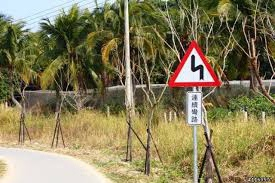Double_bend_left: (167, 38, 222, 88)
